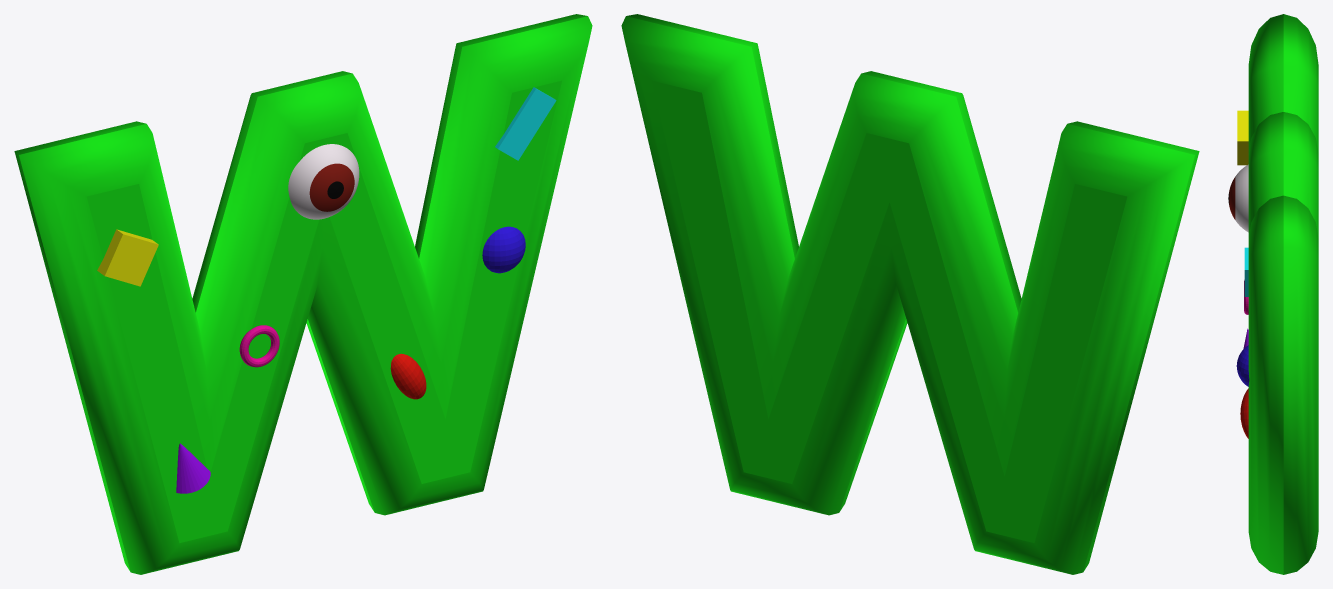
The model's file is w_green.fbx.
3 renders of one model, left to right at view 1: azimuth 30°, elevation 25°; view 2: azimuth 150°, elevation 25°; view 3: azimuth 270°, elevation 25°, orthographic. The views are drawn at different scales.
Parts seen in each view (by area): view 1: Text, Sphere, Cube, Cube.001, Sphere.001, Sphere.002, Cone, Torus; view 2: Text; view 3: Text, Sphere, Cube, Sphere.001, Sphere.002, Cube.001.
Part boxes in pixels (bbox=[...]): Text: bbox=[14, 14, 592, 574]; Sphere: bbox=[288, 144, 359, 219]; Cube: bbox=[97, 229, 158, 286]; Cube.001: bbox=[495, 87, 556, 160]; Sphere.001: bbox=[482, 226, 525, 273]; Sphere.002: bbox=[390, 353, 426, 399]; Cone: bbox=[176, 443, 210, 493]; Torus: bbox=[239, 325, 279, 367]; Text: bbox=[621, 14, 1199, 574]; Text: bbox=[1248, 14, 1318, 574]; Sphere: bbox=[1228, 164, 1248, 232]; Cube: bbox=[1237, 110, 1248, 165]; Sphere.001: bbox=[1236, 345, 1249, 386]; Sphere.002: bbox=[1240, 388, 1248, 438]; Cube.001: bbox=[1244, 247, 1248, 296].
Size of the model in its own units: 156 by 116 by 25.45.
